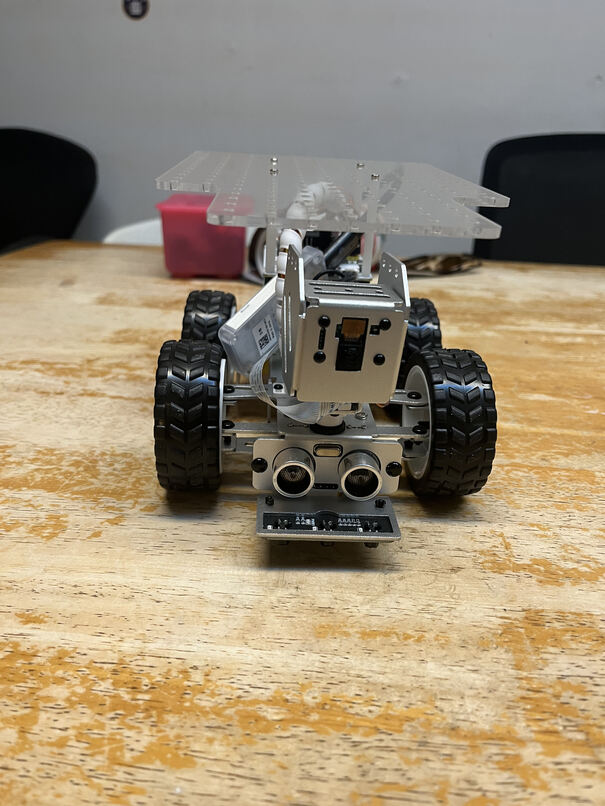vehicle: (149, 148, 513, 552)
